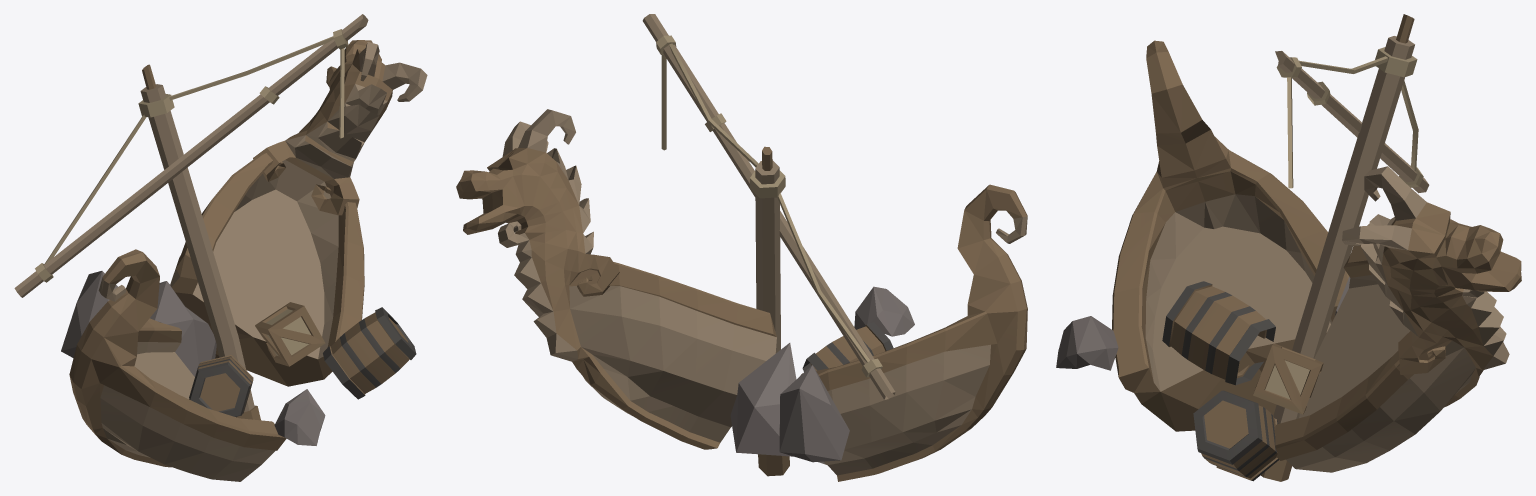
File: shipwreck.fbx
3 views of the same model, side by side, from view 1: azimuth 30°, elevation 25°; view 2: azimuth 150°, elevation 25°; view 3: azimuth 270°, elevation 25° (orthographic). The views are drawn at different scales.
Visible parts, largest first — view 1: shipwreck; view 2: shipwreck; view 3: shipwreck.
Boxes of the visible parts, <box> form: shipwreck: <box>14,14,427,481</box>; shipwreck: <box>456,14,1027,481</box>; shipwreck: <box>1056,14,1521,481</box>.
Bounding box in the file's own units: 3.5 × 3.26 × 2.77.
1 material, 1 textured.
